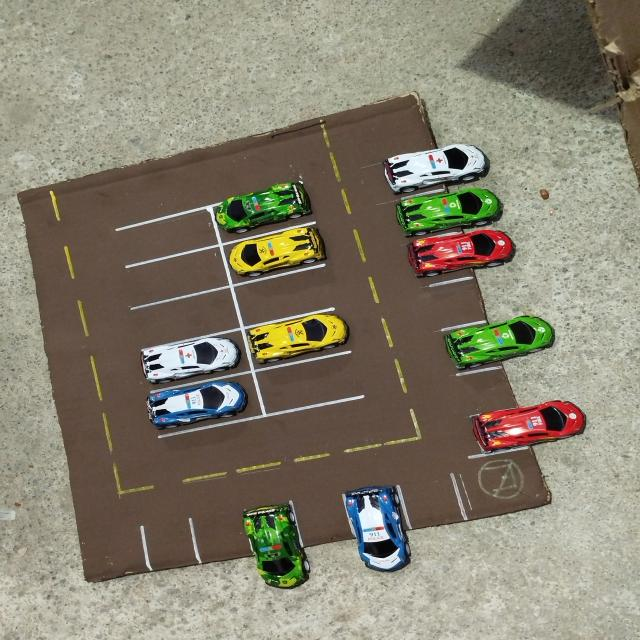libre: (253, 351, 369, 416), (129, 285, 241, 350), (123, 244, 231, 309), (230, 264, 341, 327), (114, 206, 218, 269), (415, 273, 504, 333), (445, 360, 539, 414), (392, 463, 468, 529), (79, 522, 152, 590), (287, 480, 354, 550), (139, 512, 204, 573), (189, 503, 249, 564)
no_estacionarse: (451, 448, 557, 521)
ocupado: (141, 370, 263, 437), (133, 327, 251, 391), (206, 180, 317, 245), (221, 221, 329, 286), (244, 307, 354, 370), (425, 314, 517, 377), (335, 473, 410, 542), (400, 229, 486, 289), (381, 185, 470, 242), (458, 401, 549, 456), (366, 145, 452, 203), (232, 493, 305, 557)
